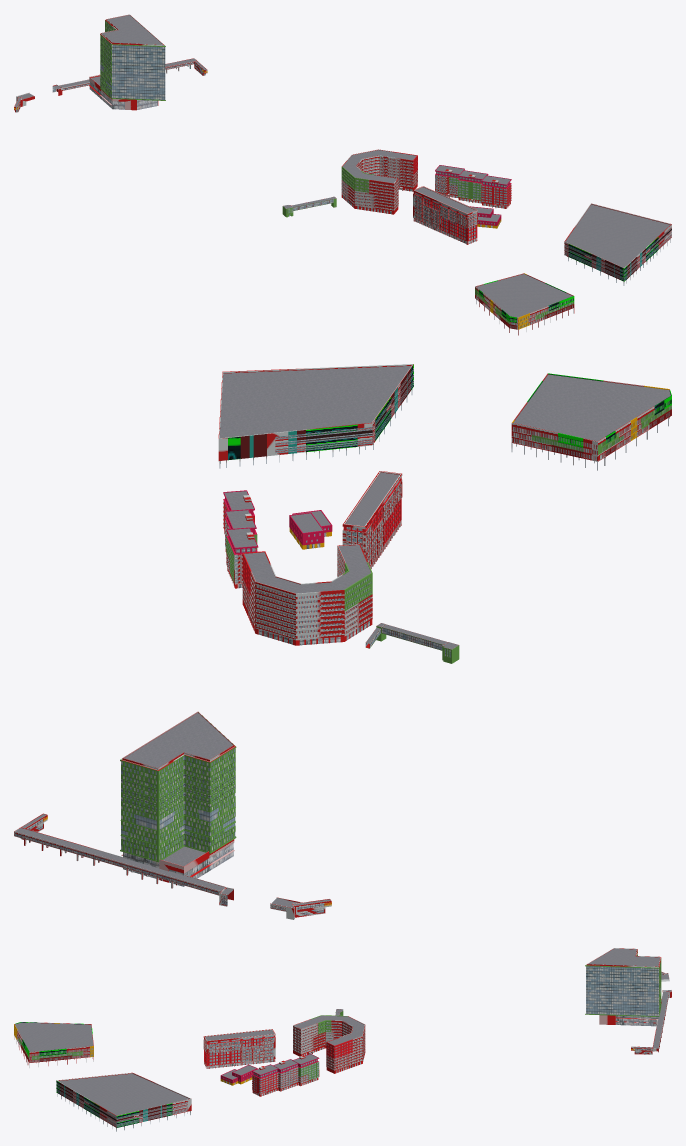
File: MODEL_HUB.FBX
3 views of the same model, one above another, from view 1: azimuth 30°, elevation 25°; view 2: azimuth 150°, elevation 25°; view 3: azimuth 270°, elevation 25° (orthographic). The views are drawn at different scales.
Visible parts, largest first — view 1: SM_TP_Building_07, SM_TP_Building_02, SM_TP_Building_06, SM_TP_Building_01, SM_TP_Building_03, SM_TP_Building_04, SM_TP_Crosswalk_04; view 2: SM_TP_Building_07, SM_TP_Building_02, SM_TP_Building_01, SM_TP_Building_06, SM_TP_Building_03, SM_TP_Crosswalk_04, SM_TP_Building_04, SM_TP_Building_05, SM_TP_Crosswalk_01; view 3: SM_TP_Building_07, SM_TP_Building_02, SM_TP_Building_06, SM_TP_Building_01, SM_TP_Building_03, SM_TP_Building_04, SM_TP_Crosswalk_04, SM_TP_Building_05.
Part boxes in pixels (box(x1,y1,x2,y2)): SM_TP_Building_07: box(89, 14, 165, 110); SM_TP_Building_02: box(564, 203, 671, 285); SM_TP_Building_06: box(341, 149, 417, 214); SM_TP_Building_01: box(475, 273, 574, 335); SM_TP_Building_03: box(413, 186, 477, 244); SM_TP_Building_04: box(435, 165, 511, 208); SM_TP_Crosswalk_04: box(16, 58, 196, 106); SM_TP_Building_07: box(120, 711, 236, 886); SM_TP_Building_02: box(218, 364, 413, 468); SM_TP_Building_01: box(511, 373, 671, 470); SM_TP_Building_06: box(242, 544, 372, 645); SM_TP_Building_03: box(342, 471, 402, 569); SM_TP_Crosswalk_04: box(14, 827, 302, 919); SM_TP_Building_04: box(223, 490, 258, 588); SM_TP_Building_05: box(289, 510, 332, 549); SM_TP_Crosswalk_01: box(365, 623, 459, 663); SM_TP_Building_07: box(585, 948, 661, 1026); SM_TP_Building_02: box(56, 1072, 191, 1131); SM_TP_Building_06: box(293, 1015, 365, 1073); SM_TP_Building_01: box(14, 1022, 93, 1067); SM_TP_Building_03: box(203, 1029, 275, 1068); SM_TP_Building_04: box(252, 1053, 319, 1096); SM_TP_Crosswalk_04: box(652, 973, 671, 1052); SM_TP_Building_05: box(220, 1064, 257, 1085).
Size of the model in its own units: 464 by 81.9 by 813.
Materials: 4 (4 with a texture image).
